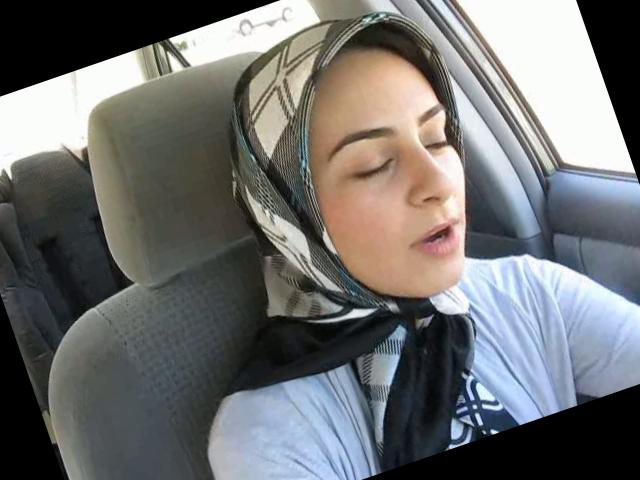eye_closed: (342, 148, 401, 190), (418, 126, 456, 160)
face: (305, 83, 504, 318)
